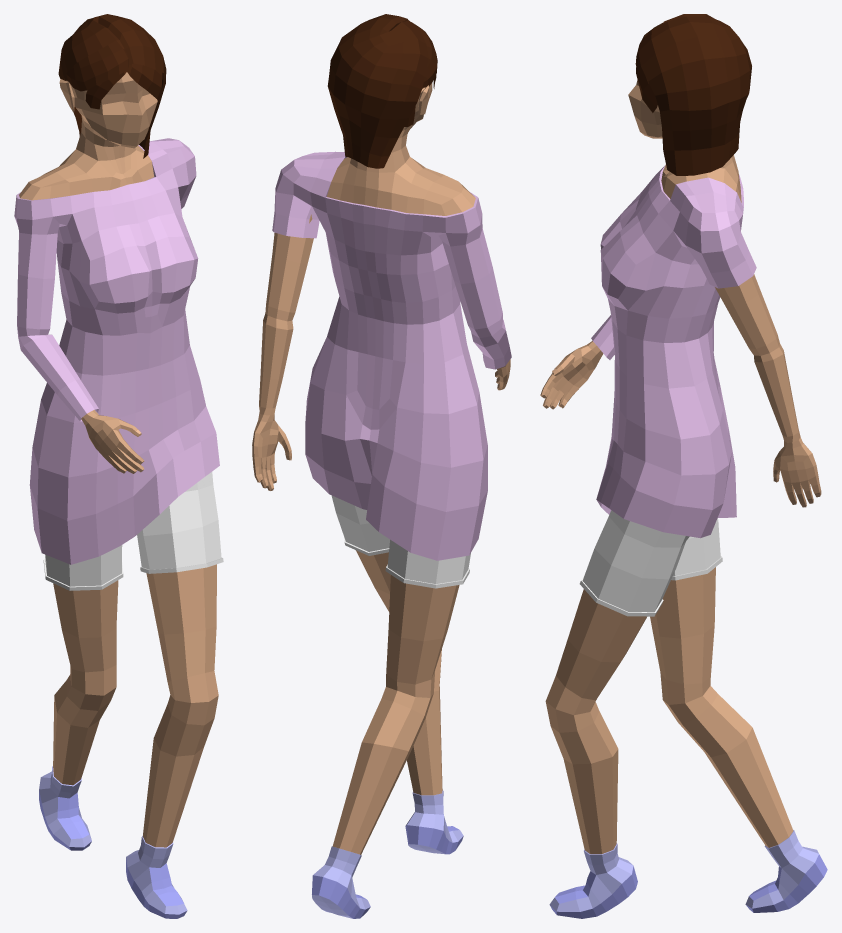
The model's file is women.obj.
3 views of the same model, side by side, from view 1: azimuth 30°, elevation 25°; view 2: azimuth 150°, elevation 25°; view 3: azimuth 270°, elevation 25° (orthographic). The views are drawn at different scales.
Visible parts, largest first — view 1: Character, Hair; view 2: Character, Hair; view 3: Character, Hair.
Part boxes in pixels (<box>): Character: <box>14,72,223,918</box>; Hair: <box>58,14,166,158</box>; Character: <box>252,83,511,918</box>; Hair: <box>327,14,437,168</box>; Character: <box>540,80,827,918</box>; Hair: <box>635,14,751,175</box>.
Bounding box in the file's own units: 0.3976 × 1.64 × 0.4787.
Materials: 1 (1 with a texture image).
